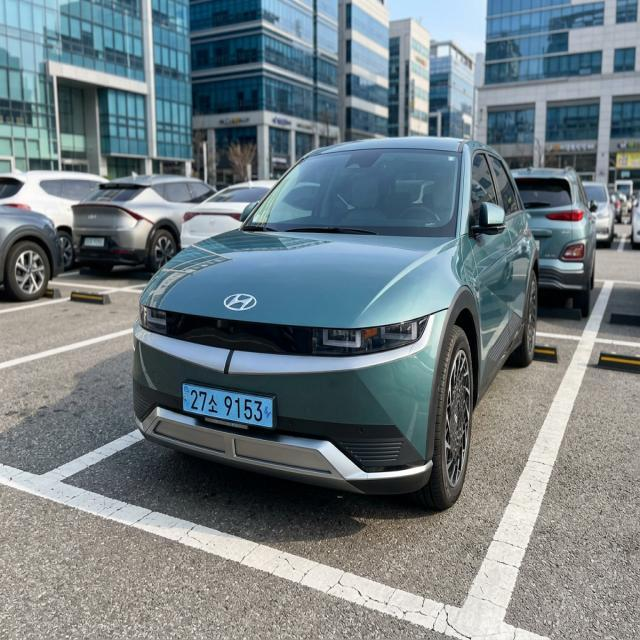car: (169, 379, 293, 439)
carev: (261, 393, 274, 430), (180, 382, 191, 420)
